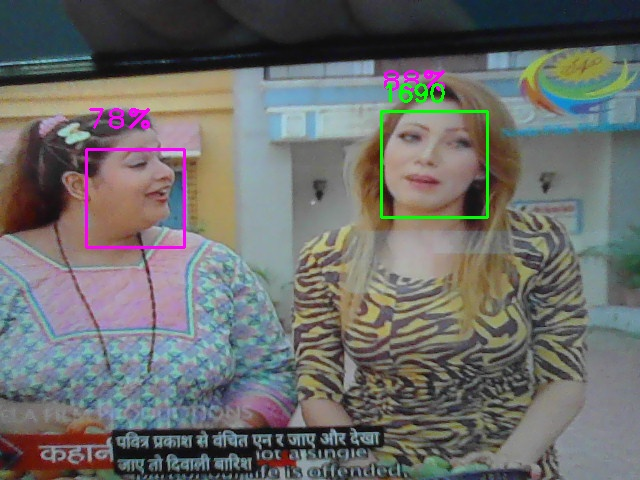fake: (381, 111, 488, 218)
